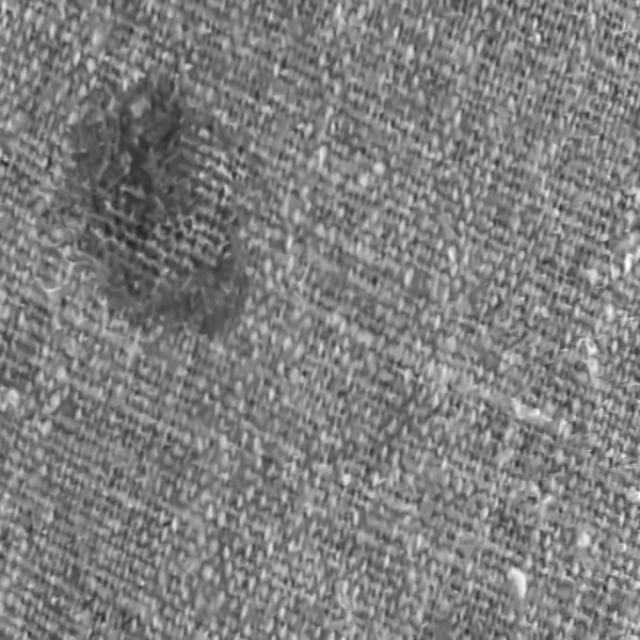other: (23, 38, 292, 386)
